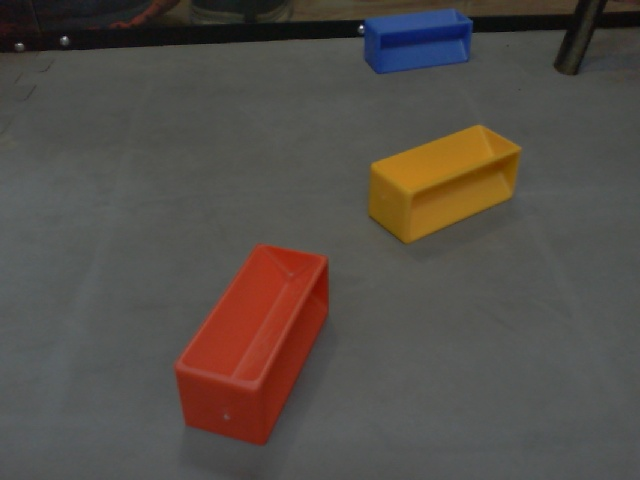BlueSample: (361, 9, 472, 75)
RedSample: (171, 240, 333, 448)
YellowSample: (366, 124, 523, 247)
